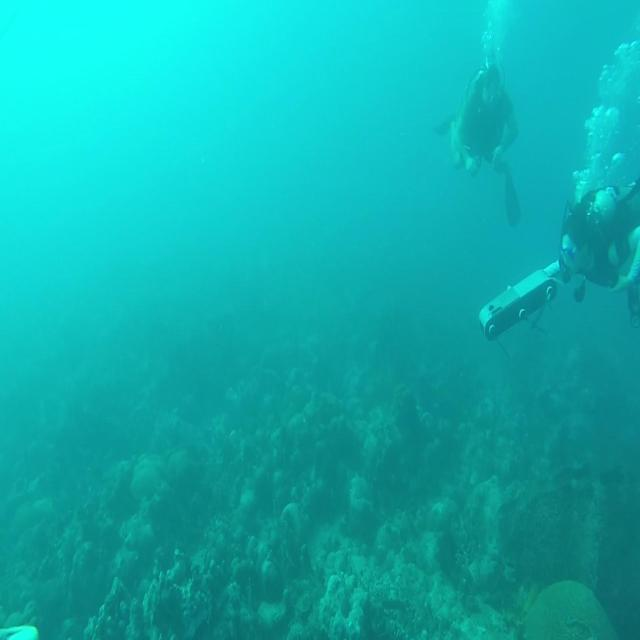human: (435, 58, 521, 227), (558, 176, 640, 325)
